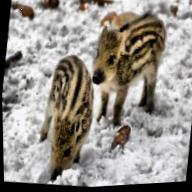boar: (81, 5, 185, 136), (26, 45, 102, 182)
